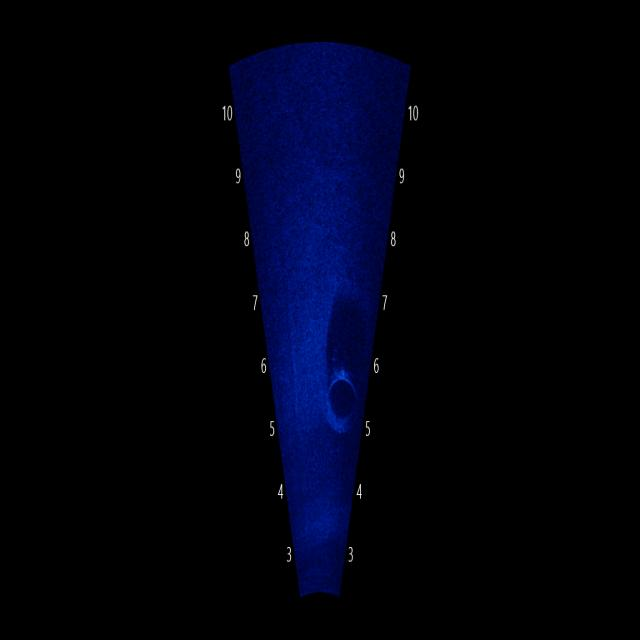circle: (311, 343, 371, 452)
